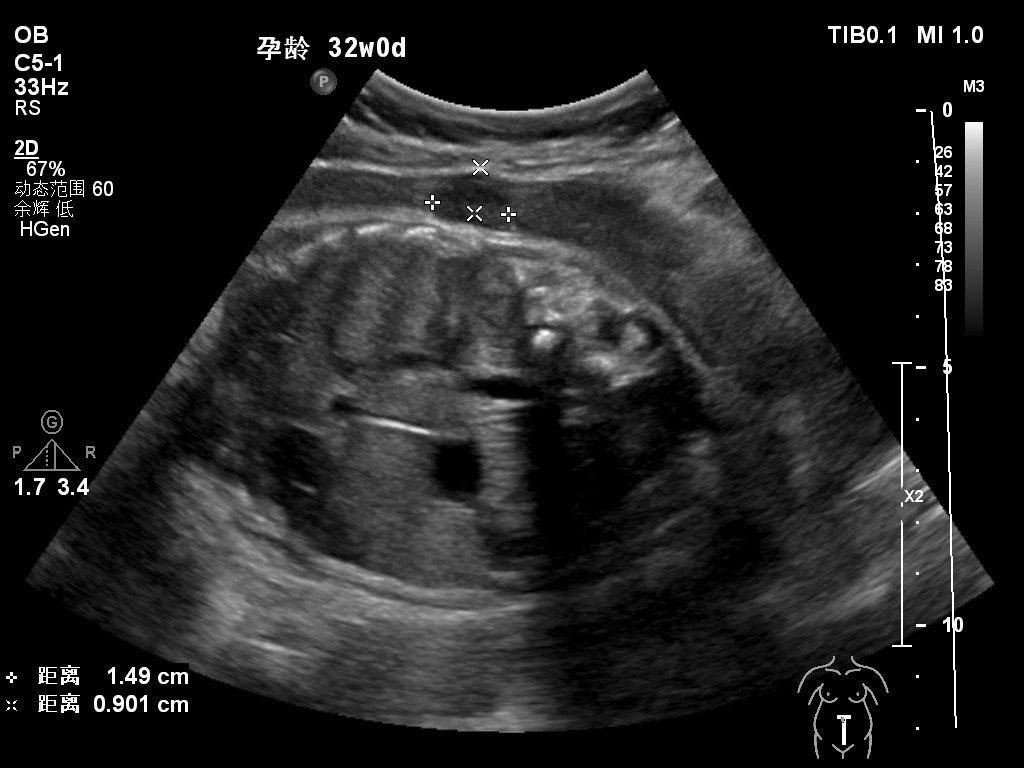肌瘤: (430, 164, 515, 218)
